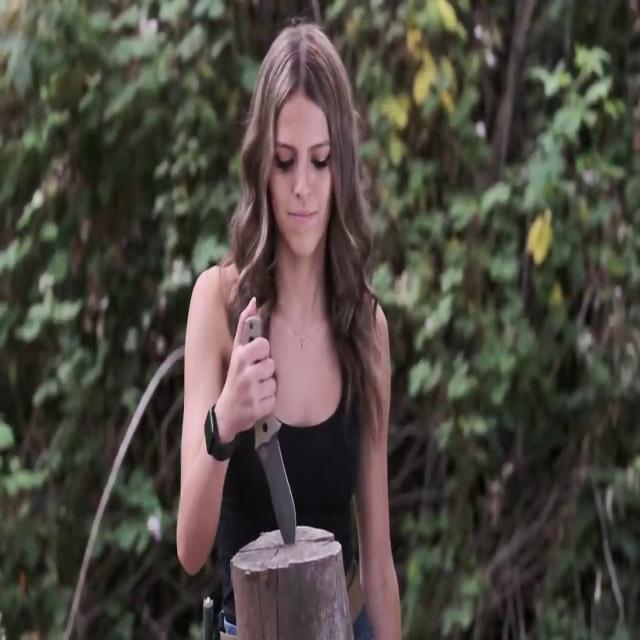Knife: (233, 307, 305, 553)
